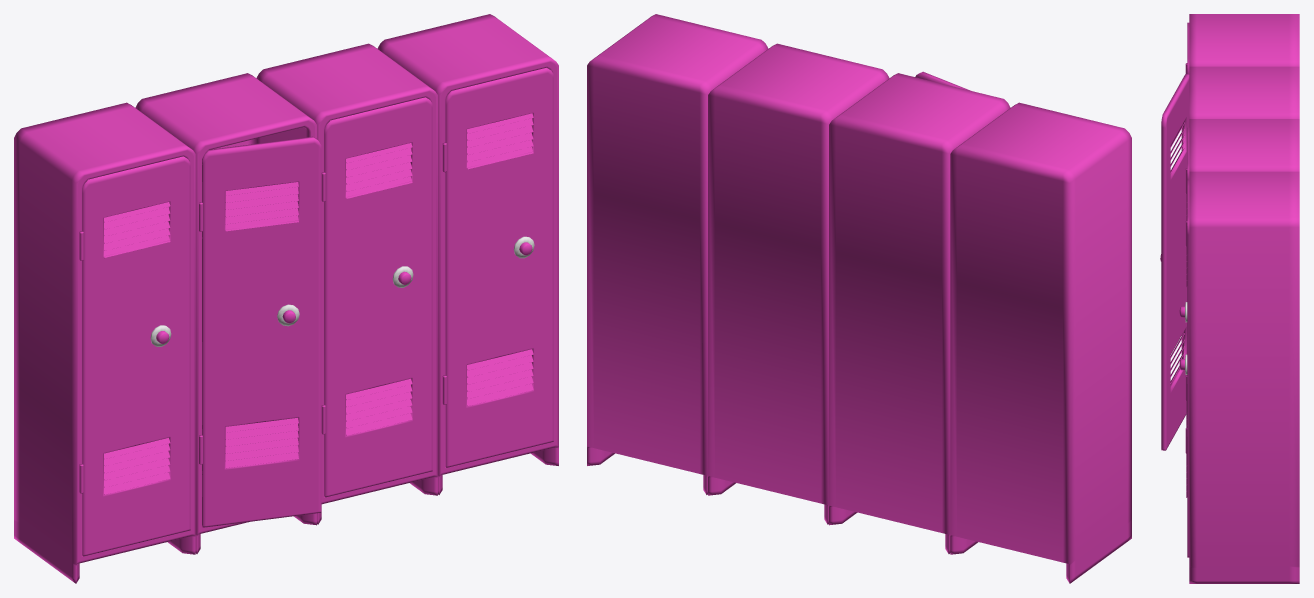
File: boxes_four.fbx
3 renders of one model, left to right at view 1: azimuth 30°, elevation 25°; view 2: azimuth 150°, elevation 25°; view 3: azimuth 270°, elevation 25°, orthographic. The views are drawn at different scales.
Parts seen in each view (by area): view 1: door.003, door.018, door.004, door.010, door.021, door.020, door.009, door.002, door.008, door.022, door.019, door.006; view 2: door.018, door.002, door.020, door.009; view 3: door.020, door.003, door.018, door.002, door.009, door.021, door.008, door.022, door.019.
Part boxes in pixels (x1,y1,x2,y2): door.003: [202, 136, 321, 527]; door.018: [14, 102, 195, 583]; door.004: [82, 156, 190, 556]; door.010: [324, 97, 432, 497]; door.021: [445, 67, 553, 467]; door.020: [377, 14, 558, 494]; door.009: [256, 43, 437, 524]; door.002: [135, 73, 316, 553]; door.008: [199, 182, 298, 468]; door.022: [442, 113, 533, 406]; door.019: [321, 143, 412, 435]; door.006: [79, 202, 170, 494]; door.018: [950, 102, 1131, 583]; door.002: [829, 73, 1010, 553]; door.020: [587, 14, 768, 494]; door.009: [708, 43, 889, 524]; door.020: [1189, 171, 1299, 583]; door.003: [1161, 74, 1189, 450]; door.018: [1189, 14, 1299, 66]; door.002: [1189, 66, 1299, 118]; door.009: [1189, 119, 1299, 171]; door.021: [1187, 180, 1189, 557]; door.008: [1160, 122, 1184, 383]; door.022: [1179, 221, 1187, 497]; door.019: [1179, 168, 1187, 427].
Size of the model in its own units: 899 by 726 by 252.
